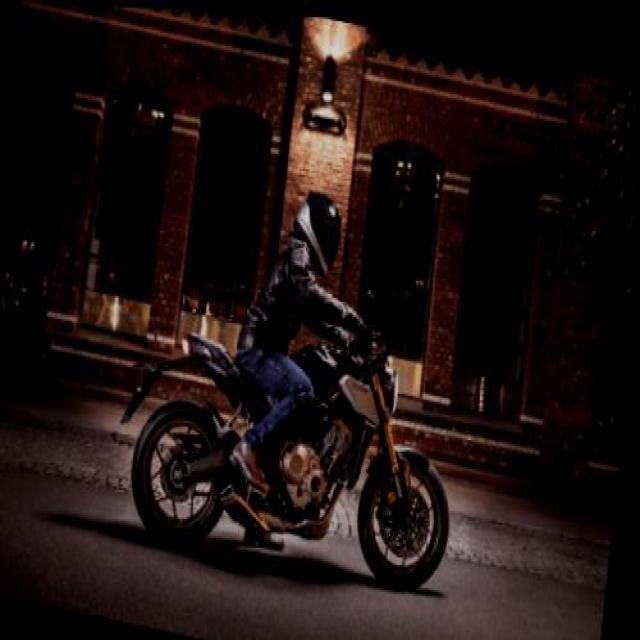CB650R: (125, 280, 471, 596)
